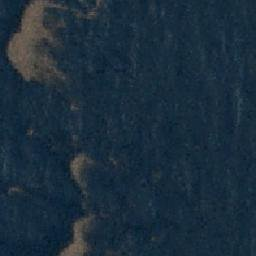debris: (18, 42, 62, 82), (19, 1, 59, 44), (69, 149, 91, 194), (70, 213, 95, 250), (59, 1, 104, 19), (70, 102, 83, 142), (9, 33, 19, 61), (5, 183, 21, 196), (76, 198, 91, 211), (25, 126, 37, 138)
